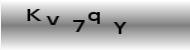7: (71, 18, 86, 34)
K: (26, 7, 42, 23)
Y: (112, 20, 128, 35)
q: (86, 10, 102, 25)
v: (46, 14, 61, 26)
